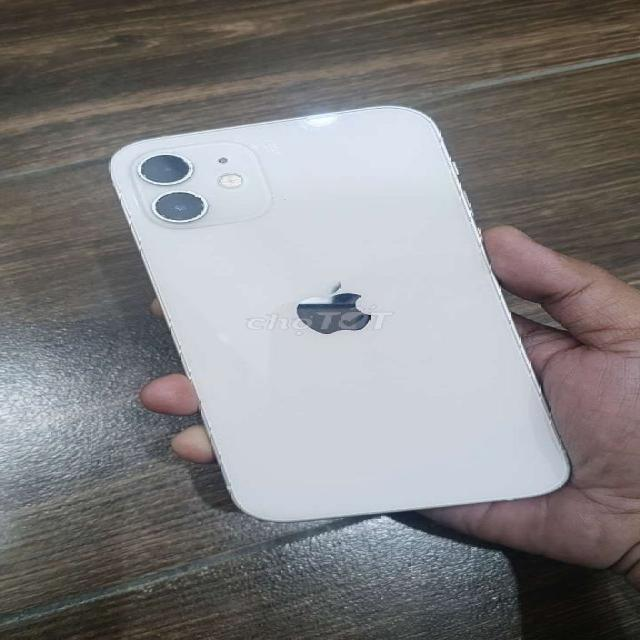gen_12_13: (106, 98, 580, 526)
